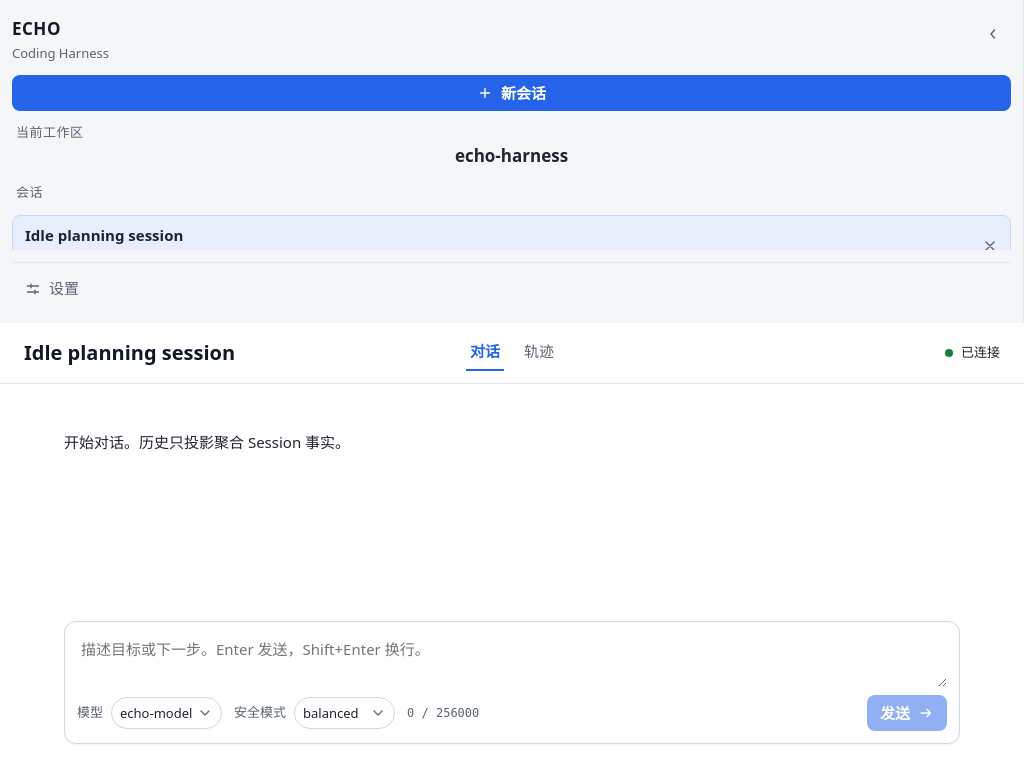
Test case: Composer shell › sends with Enter and inserts a newline with Shift+Enter
Type "hello" into the text box named "输入".
click(512, 660); type("hello")  # box x1=77 y1=634 x2=947 y2=687
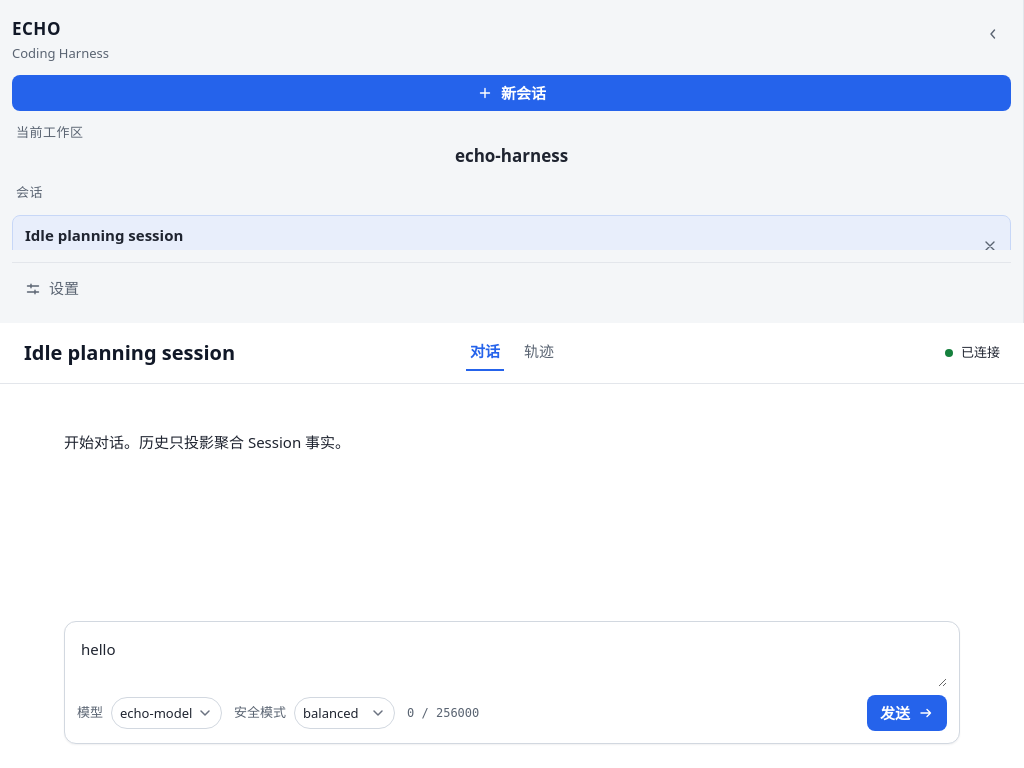
Type keys "{Shift>}{Enter}{/Shift}"
Type "world" into the text box named "输入".
click(512, 660); type("world")  # box x1=77 y1=634 x2=947 y2=687
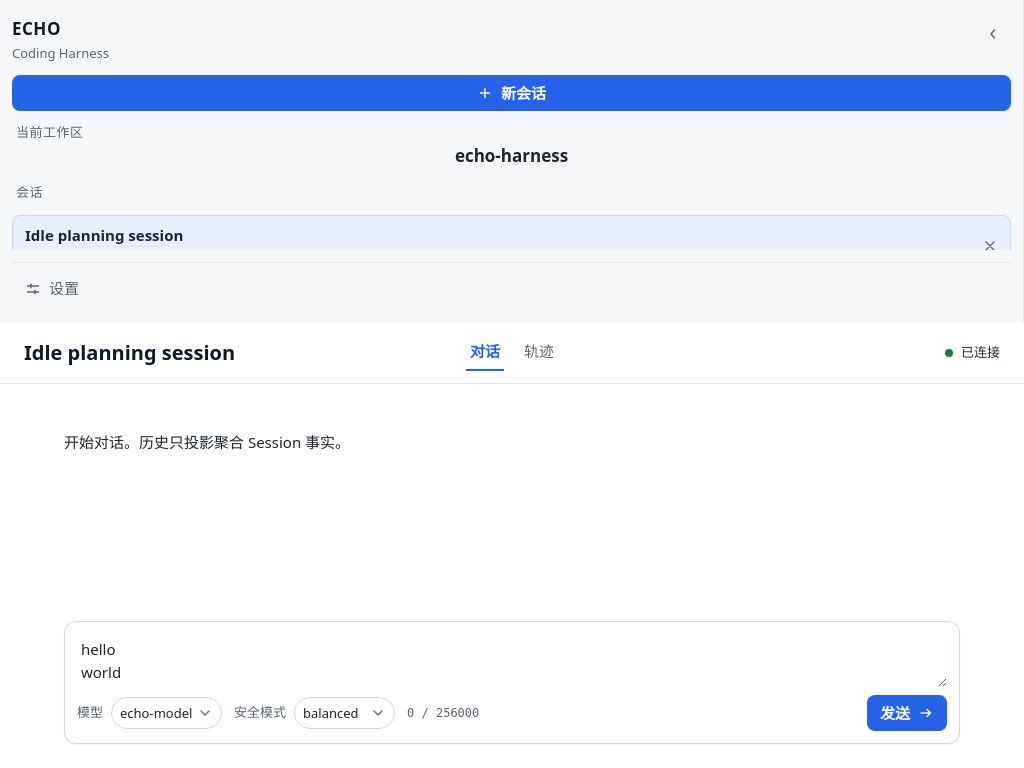
Expected: the text box named "输入" is empty, x1=77 y1=634 x2=947 y2=687
Press Enter
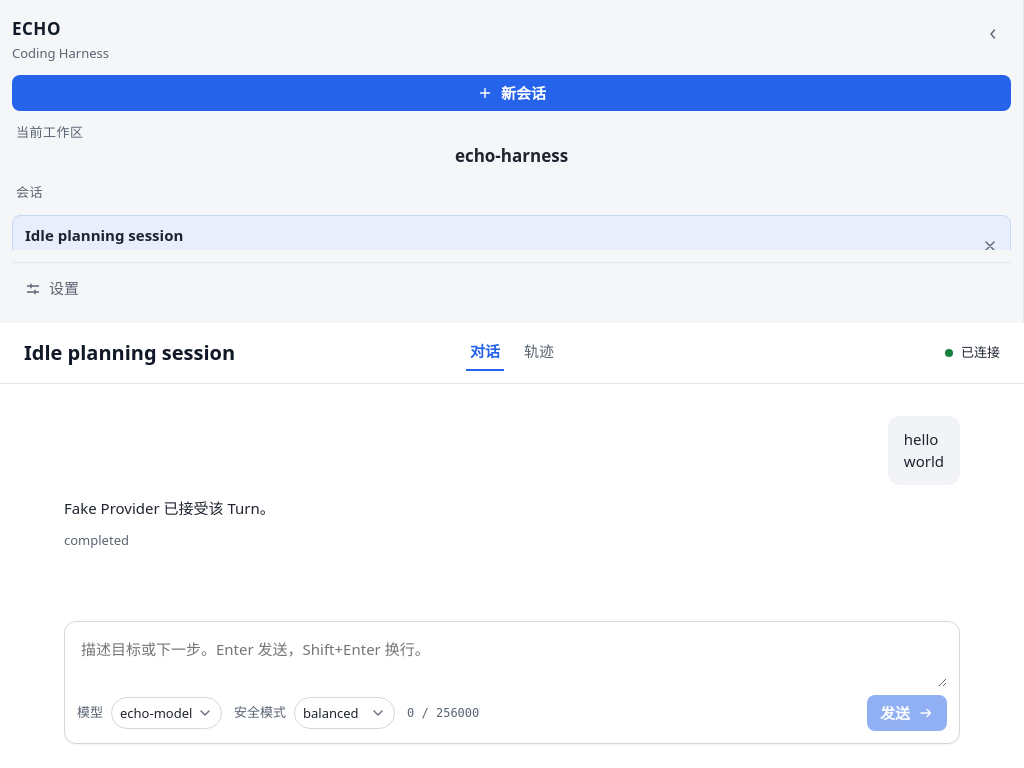
Expected: the text "hello world" is shown, x1=888 y1=416 x2=960 y2=484
Expected: the text "Fake Provider 已接受该 Turn。" is shown, x1=64 y1=498 x2=275 y2=518
